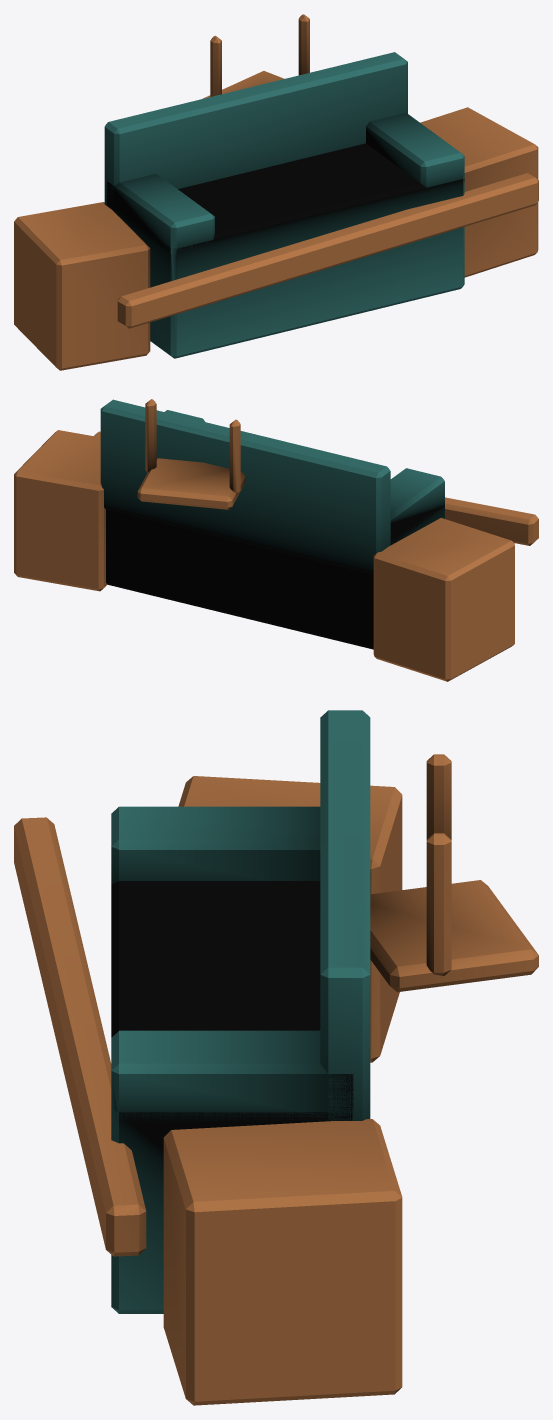
File: decay.makeshift-barricade.glb
3 views of the same model, one above another, from view 1: azimuth 30°, elevation 25°; view 2: azimuth 150°, elevation 25°; view 3: azimuth 270°, elevation 25° (orthographic). The views are drawn at different scales.
Parts seen in each view (by area): view 1: body; view 2: body; view 3: body.
Boxes of the visible parts, box(x1,y1,x2,y2) form: body: box(14, 14, 538, 370); body: box(14, 399, 538, 681); body: box(14, 710, 538, 1405).
Bounding box in the file's own units: 3.28 × 1.5 × 1.68.
